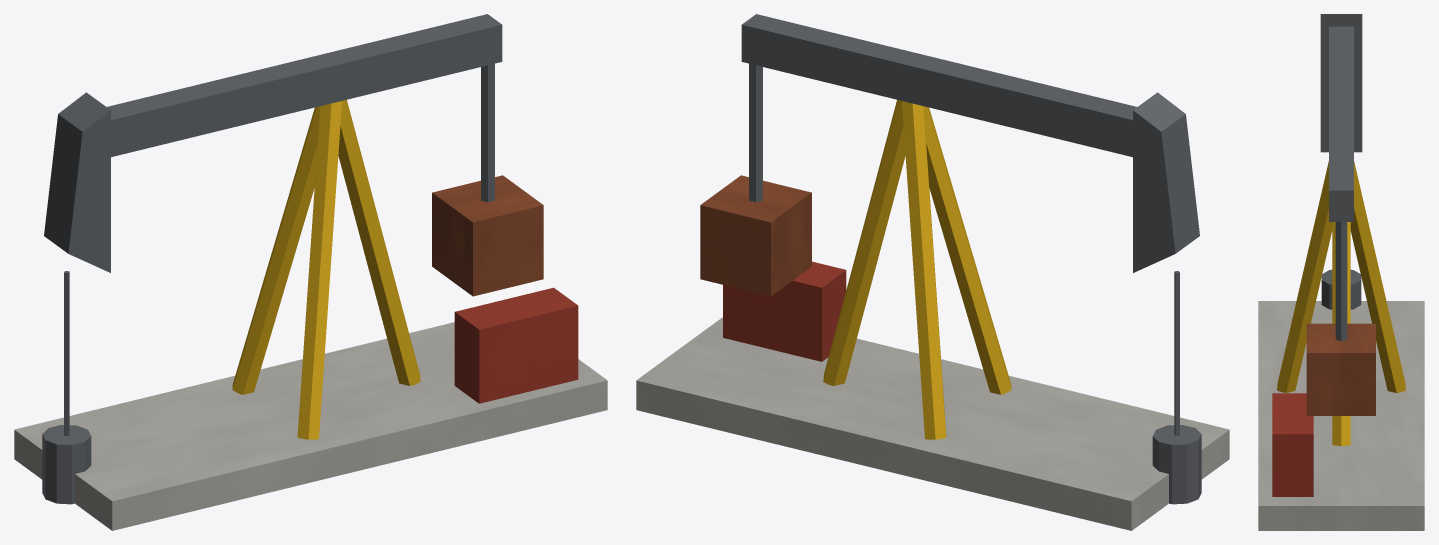
File: pv_cerpadlo_ropy.glb
The picture shows the model from 3 angles, left to right: view 1: azimuth 30°, elevation 25°; view 2: azimuth 150°, elevation 25°; view 3: azimuth 270°, elevation 25°; orthographic projection. The views are drawn at different scales.
Visible parts, largest first — view 1: dum; view 2: dum; view 3: dum.
Part boxes in pixels (<box>): dum: <box>14,14,607,530</box>; dum: <box>636,14,1229,530</box>; dum: <box>1258,14,1424,530</box>.
Size of the model in its own units: 7.23 by 5.19 by 2.39.
Materials: 1 (1 with a texture image).
